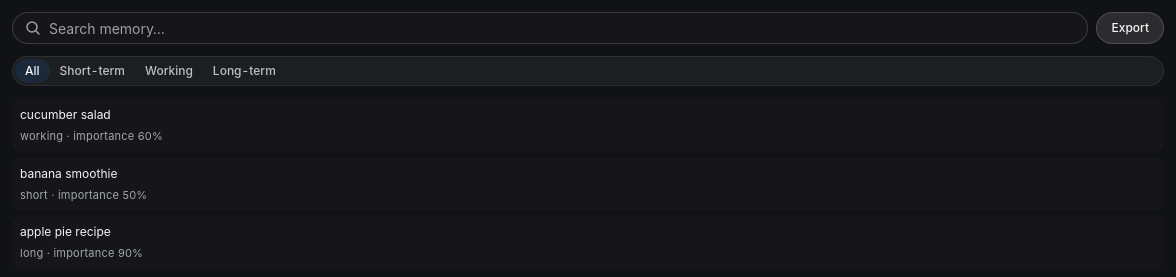
Scenario: MemoryInspector › searches by substring
The image size is (1176, 277).
Type "apple" into the search field with test id "memory-search". click: (562, 28)
box: [49,18,1076,38]
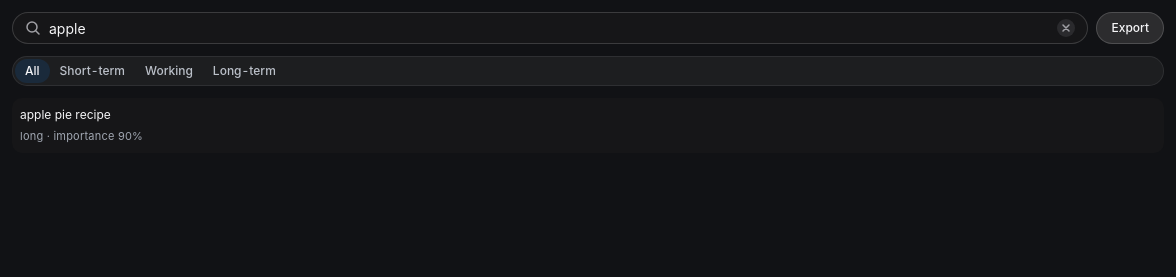
Expected: the list item with test id "memory-item-a" is shown, [12,98,1164,152]
Expected: the list item with test id "memory-item-b" is gone
